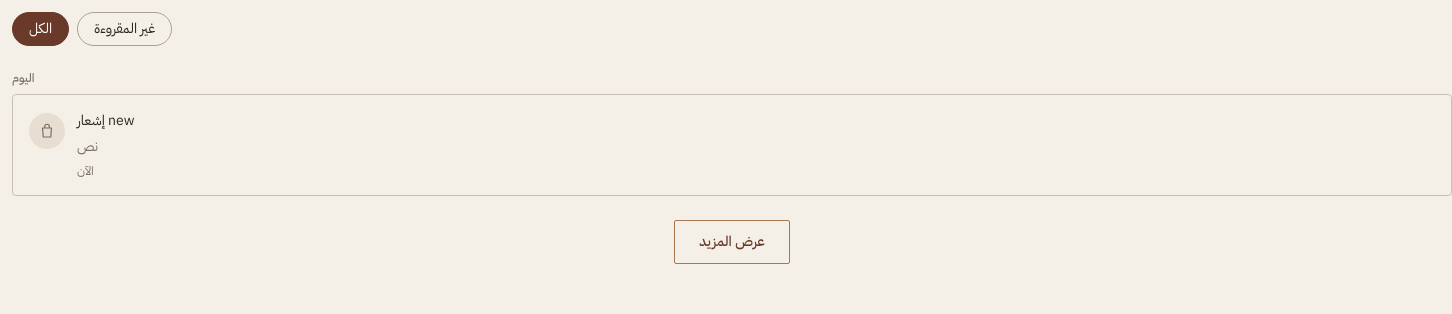
Test: NotificationsCenter › hides the e-mail section when the platform does not send e-mail, and loads more
This screenshot has width=1452, height=314.
Click the button "عرض المزيد".
click(732, 242)  # box [674,220,790,264]
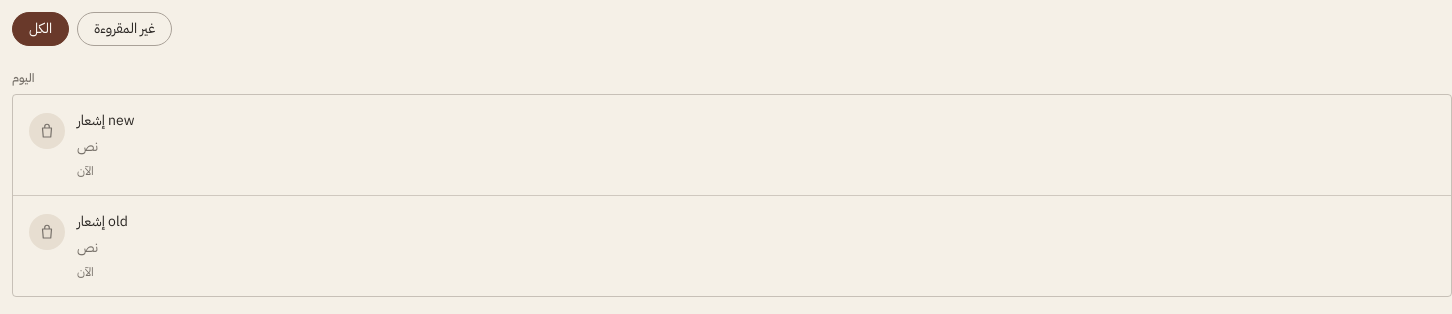
Expected: the text "إشعار old" is shown, [77,211,128,232]
Expected: the button "عرض المزيد" is gone
